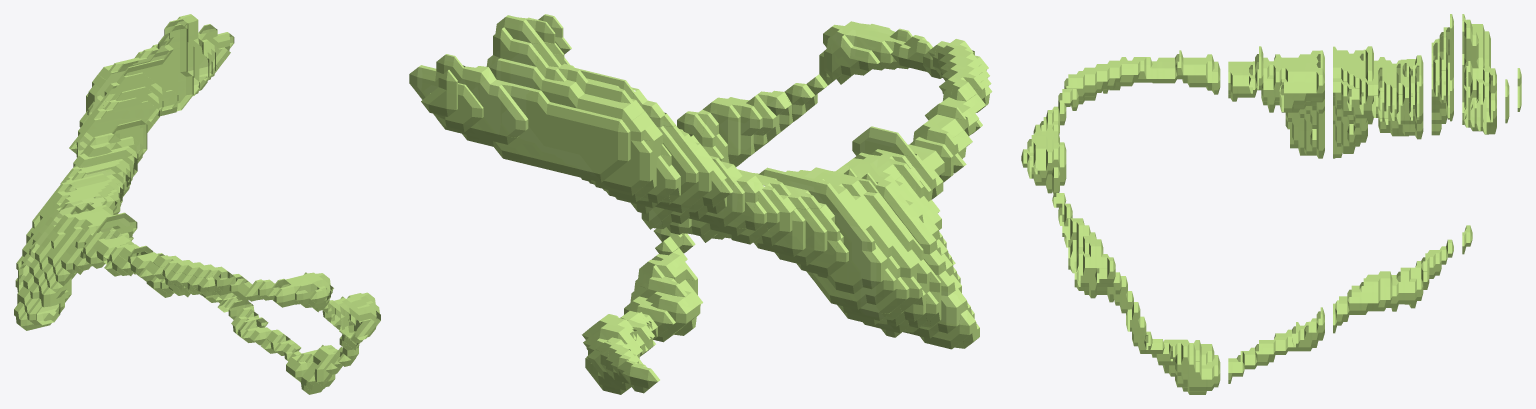
File: SVV_URAVR.gltf
3 views of the same model, side by side, from view 1: azimuth 30°, elevation 25°; view 2: azimuth 150°, elevation 25°; view 3: azimuth 270°, elevation 25° (orthographic). The views are drawn at different scales.
Visible parts, largest first — view 1: URAVR; view 2: URAVR; view 3: URAVR.
Boxes of the visible parts, x1,y1,x2,y2 form: URAVR: (14, 14, 380, 394); URAVR: (409, 14, 992, 394); URAVR: (1021, 14, 1521, 394).
Bounding box in the file's own units: 25616 × 24577 × 31248.
